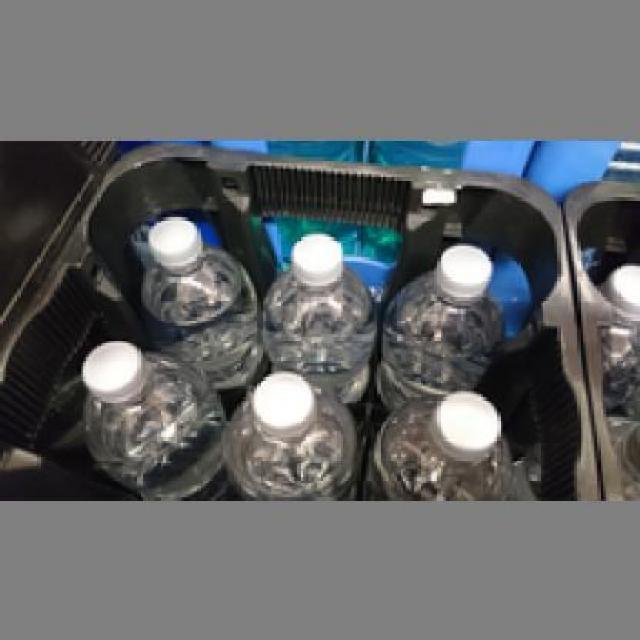Water: (68, 332, 218, 488), (132, 206, 255, 372), (254, 228, 380, 386), (377, 239, 500, 395), (363, 380, 514, 491), (212, 372, 348, 494)
